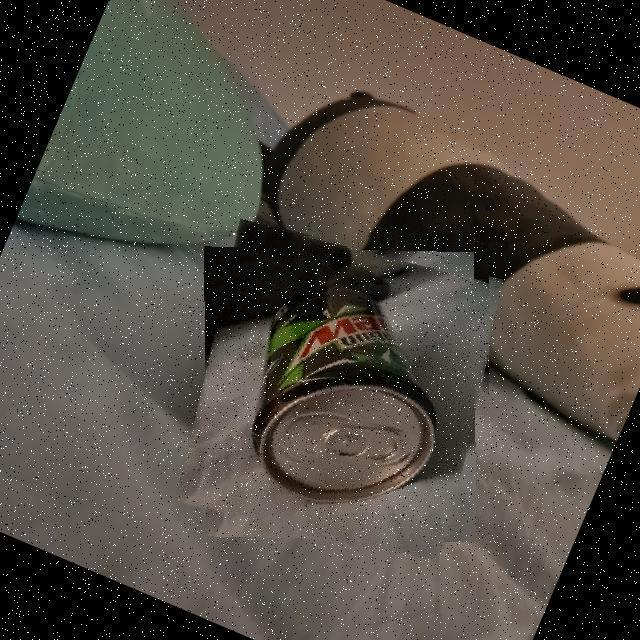recyclable: (189, 233, 489, 549)
